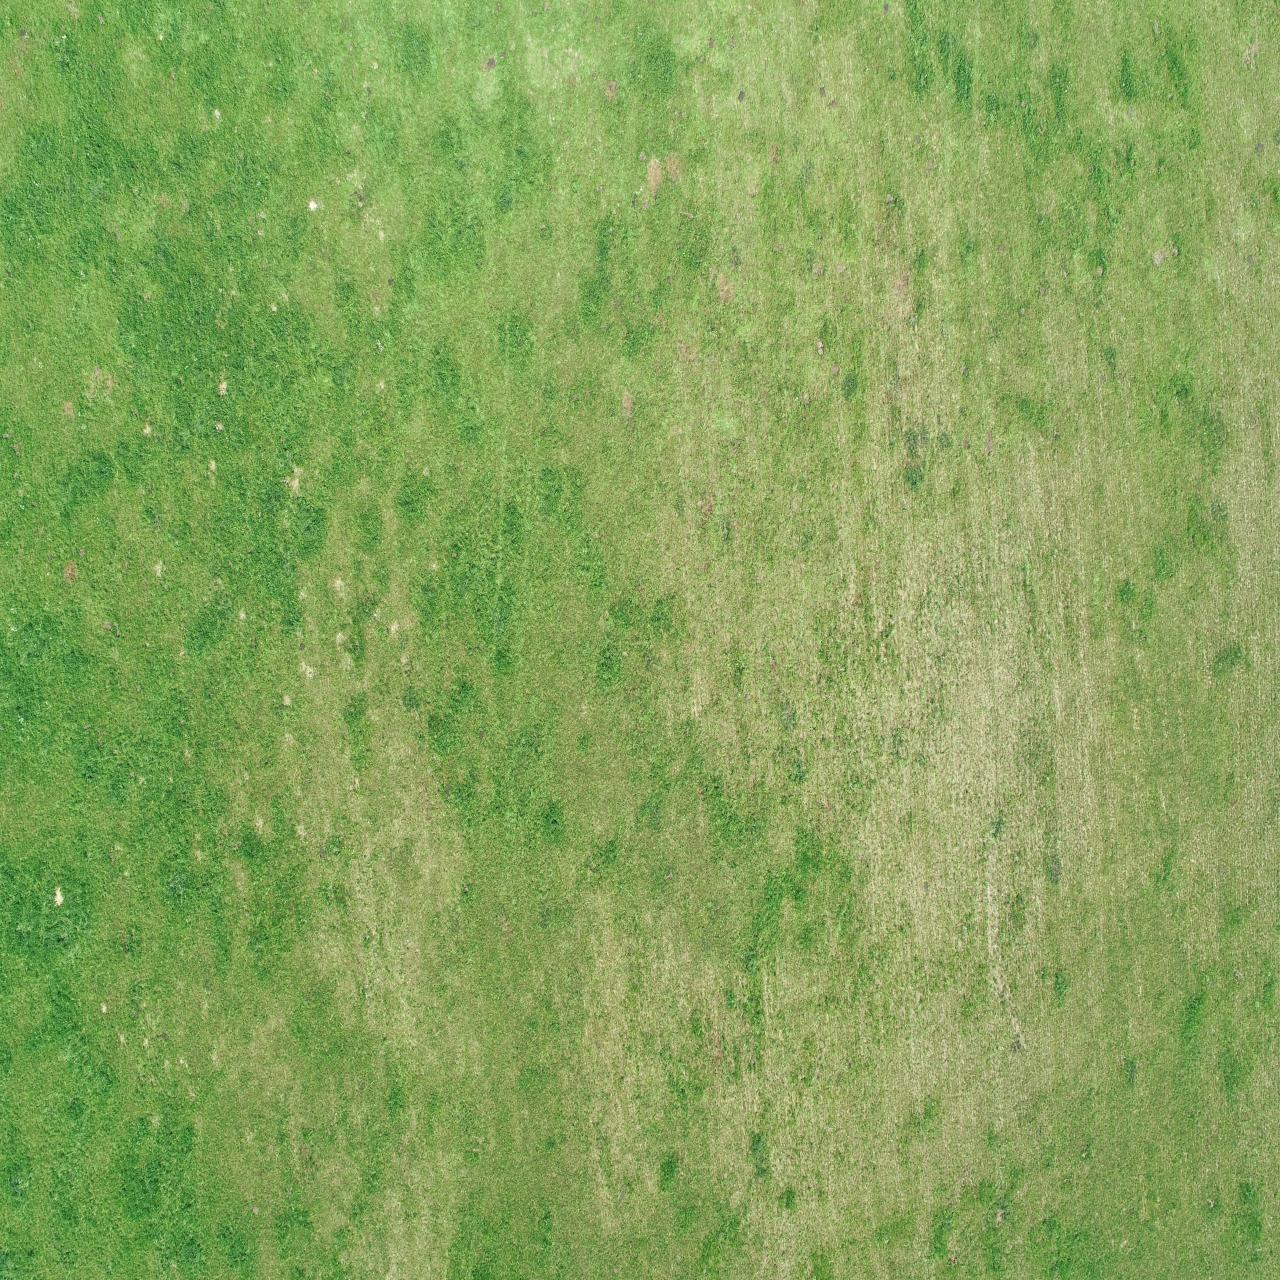cow: (231, 937, 267, 980), (899, 765, 930, 816), (274, 1050, 299, 1102)
